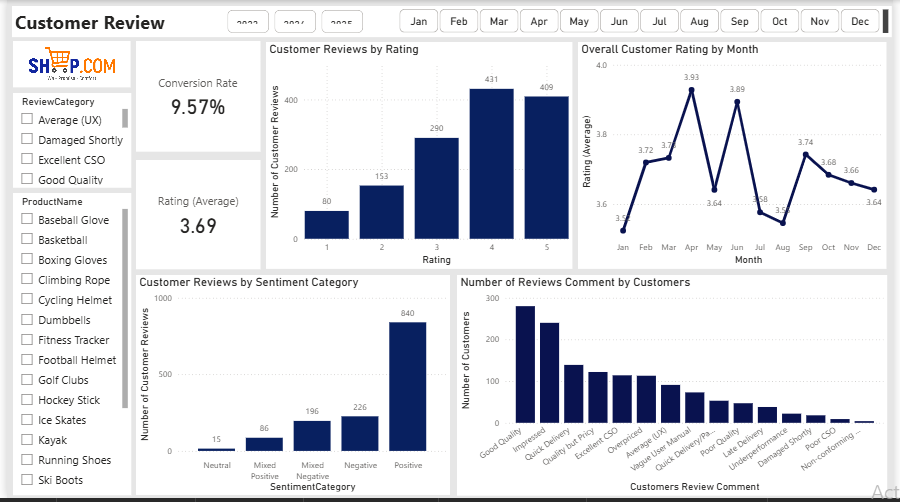

Layout of this report page (visuals, bound fields, positions):
{"tool":"powerbi","page":{"name":"Customer Review","canvas":[1280,720],"ordinal":3},"visuals":[{"type":"textbox","box":[7.9,8.7,1272,45.3],"z":0},{"type":"slicer","fields":{"Values":["dim_products.ProductName"]},"box":[8,278.7,170.7,437.3],"z":1000},{"type":"cardVisual","fields":{"Data":["_Calculations.Average Rating"]},"box":[186.2,231.2,180,158.1],"z":2000},{"type":"advancedSlicerVisual","fields":{"Values":["Calendar.Year"]},"box":[313.5,14.2,203.9,38.7],"z":3000},{"type":"advancedSlicerVisual","fields":{"Values":["Calendar.MonthNameShort"]},"box":[562.7,13.4,710,39],"z":4000},{"type":"columnChart","title":"Customer Reviews by Rating","fields":{"Category":["fact_customer_reviews_with_sentiment.Rating"],"Y":["_Calculations.Number of Customer Reviews"]},"box":[374.2,60,442.5,327.5],"z":5000},{"type":"columnChart","title":"Customer Reviews by Sentiment Category","fields":{"Y":["_Calculations.Num of Customer Reviews"],"Category":["fact_customer_reviews_with_sentiment.SentimentCategory"]},"box":[185.8,397.5,454.2,318.3],"z":6000},{"type":"slicer","fields":{"Values":["fact_customer_reviews_with_sentiment.ReviewCategory"]},"box":[8,134,170.7,137.3],"z":7000},{"type":"clusteredColumnChart","title":"Number of Reviews Comment by Customers","fields":{"Category":["fact_customer_reviews_with_sentiment.ReviewCategory"],"Y":["CountNonNull(fact_customer_reviews_with_sentiment.Rating)"]},"box":[650.3,397.4,621.9,318.7],"z":8000},{"type":"cardVisual","fields":{"Data":["_Calculations.Conversion Rate"]},"box":[186.4,60,180,160],"z":9000},{"type":"actionButton","box":[8.2,60,170.5,67.3],"z":10000},{"type":"lineChart","title":"Overall Customer Rating by Month","fields":{"Category":["Calendar.MonthNameShort"],"Y":["_Calculations.Rating (Average)"]},"box":[825.8,60.6,446.5,327.7],"z":11000}]}

Visuals, with their boxes in screenshot pixels (x1, y1, x2, y2), scaled from the page's 1280x720 canvas onto the 900x502 screenshot:
textbox: l=6, t=6, r=899, b=38
slicer - dim_products.ProductName: l=6, t=194, r=126, b=499
cardVisual - _Calculations.Average Rating: l=131, t=161, r=257, b=271
advancedSlicerVisual - Calendar.Year: l=220, t=10, r=364, b=37
advancedSlicerVisual - Calendar.MonthNameShort: l=396, t=9, r=895, b=37
"Customer Reviews by Rating" columnChart: l=263, t=42, r=574, b=270
"Customer Reviews by Sentiment Category" columnChart: l=131, t=277, r=450, b=499
slicer - fact_customer_reviews_with_sentiment.ReviewCategory: l=6, t=93, r=126, b=189
"Number of Reviews Comment by Customers" clusteredColumnChart: l=457, t=277, r=895, b=499
cardVisual - _Calculations.Conversion Rate: l=131, t=42, r=258, b=153
actionButton: l=6, t=42, r=126, b=89
"Overall Customer Rating by Month" lineChart: l=581, t=42, r=895, b=271
